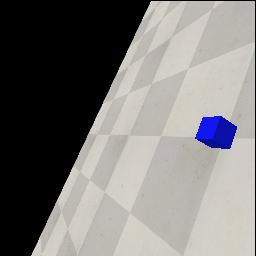box: (195, 116, 237, 149)
